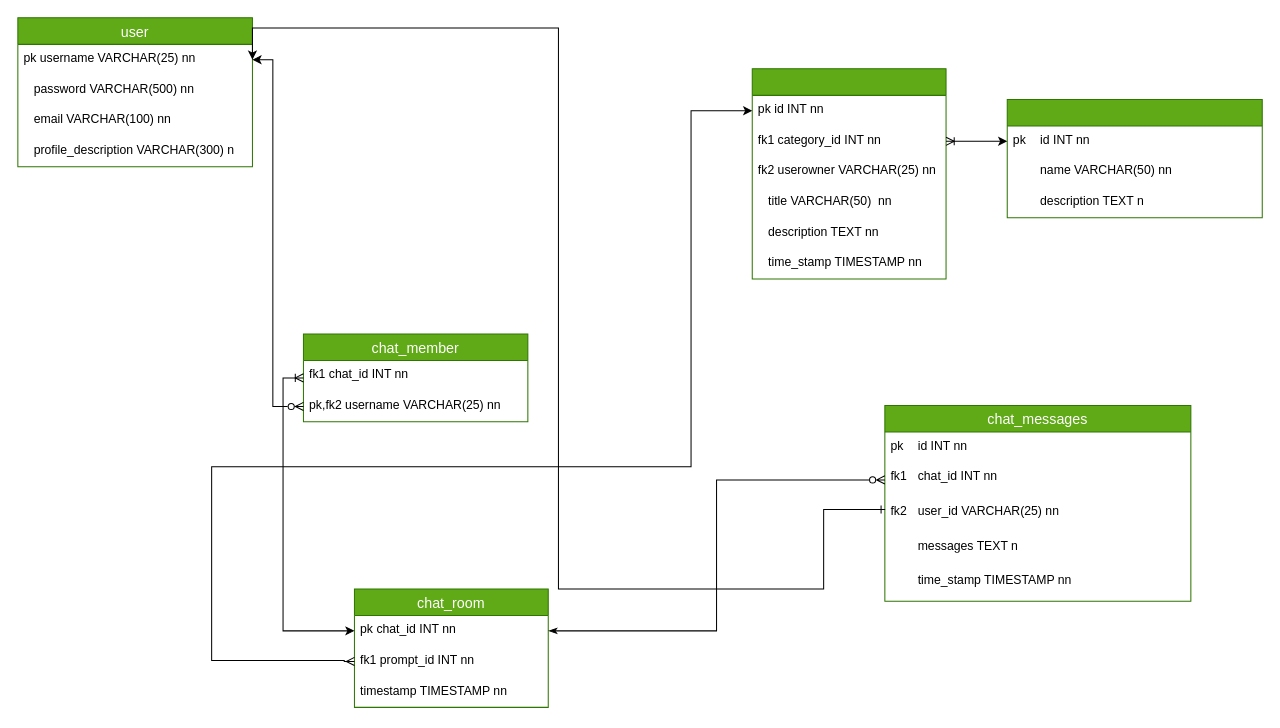
The diagram is 1280 pixels wide and 728 high, and some of its shapes have lost their labels. The shapes that lost their labels are listed below. From the top down, each one's box as (x1, y1, x2, y2) in pixels, then its label:
(751, 68, 946, 279): prompts
(1006, 98, 1262, 218): category
